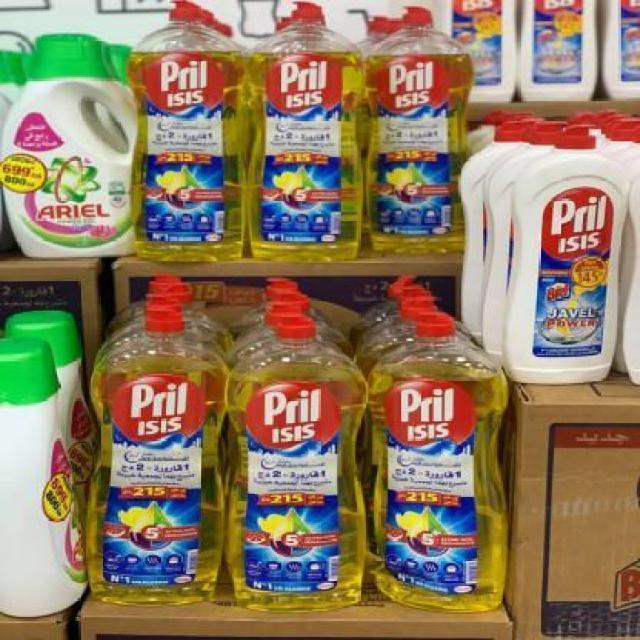Detergent: (6, 25, 134, 260)
